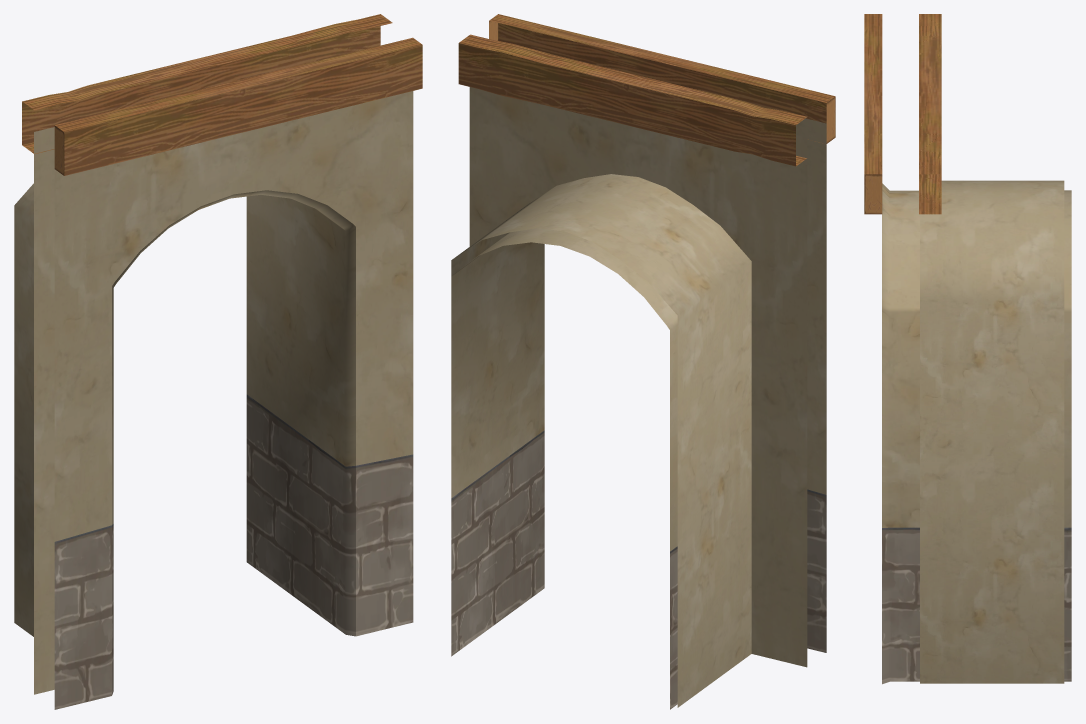
The model's file is Wall_Plaster_Door_RoundInset.glb.
The picture shows the model from 3 angles, left to right: view 1: azimuth 30°, elevation 25°; view 2: azimuth 150°, elevation 25°; view 3: azimuth 270°, elevation 25°; orthographic projection. The views are drawn at different scales.
Parts seen in each view (by area): view 1: Wall_Plaster_Door_RoundInset; view 2: Wall_Plaster_Door_RoundInset; view 3: Wall_Plaster_Door_RoundInset.
Boxes of the visible parts, bbox=[...] form: Wall_Plaster_Door_RoundInset: bbox=[14, 14, 422, 709]; Wall_Plaster_Door_RoundInset: bbox=[451, 14, 835, 709]; Wall_Plaster_Door_RoundInset: bbox=[864, 14, 1071, 684].
Bounding box in the file's own units: 2 × 3.12 × 1.09.
3 materials, 3 textured.
